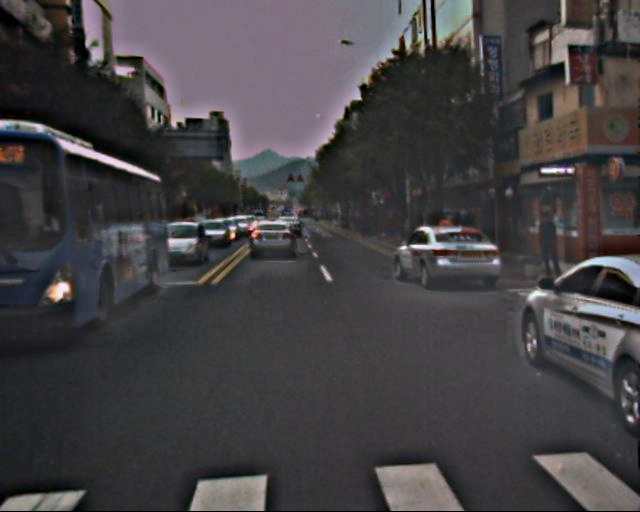person: (536, 212, 562, 275)
